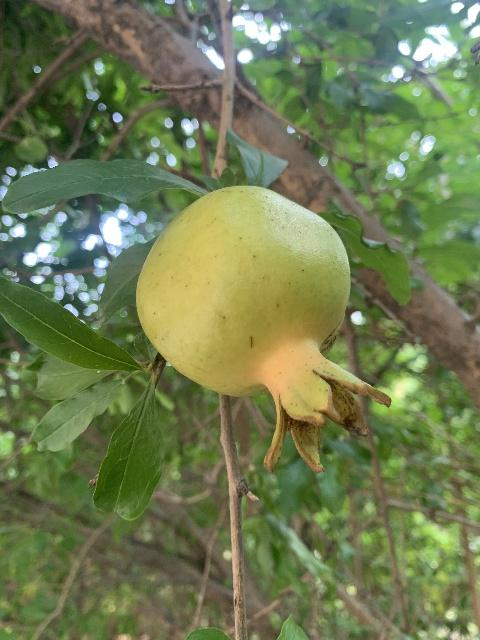mid-growth: (135, 184, 390, 473)
